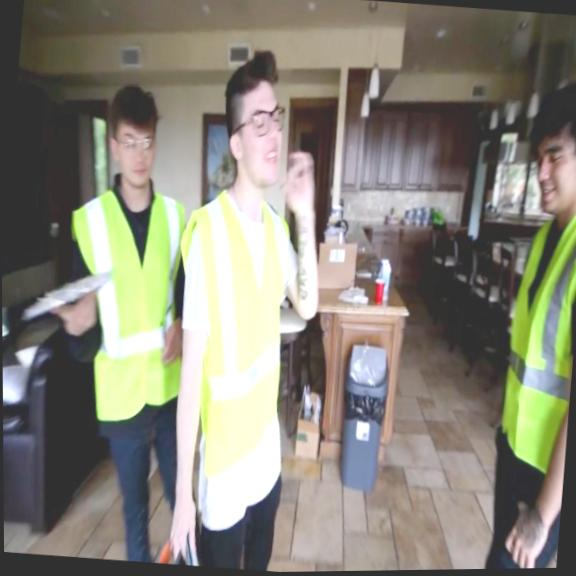safety_vest: (163, 180, 302, 481), (54, 181, 197, 430), (487, 192, 576, 498)
